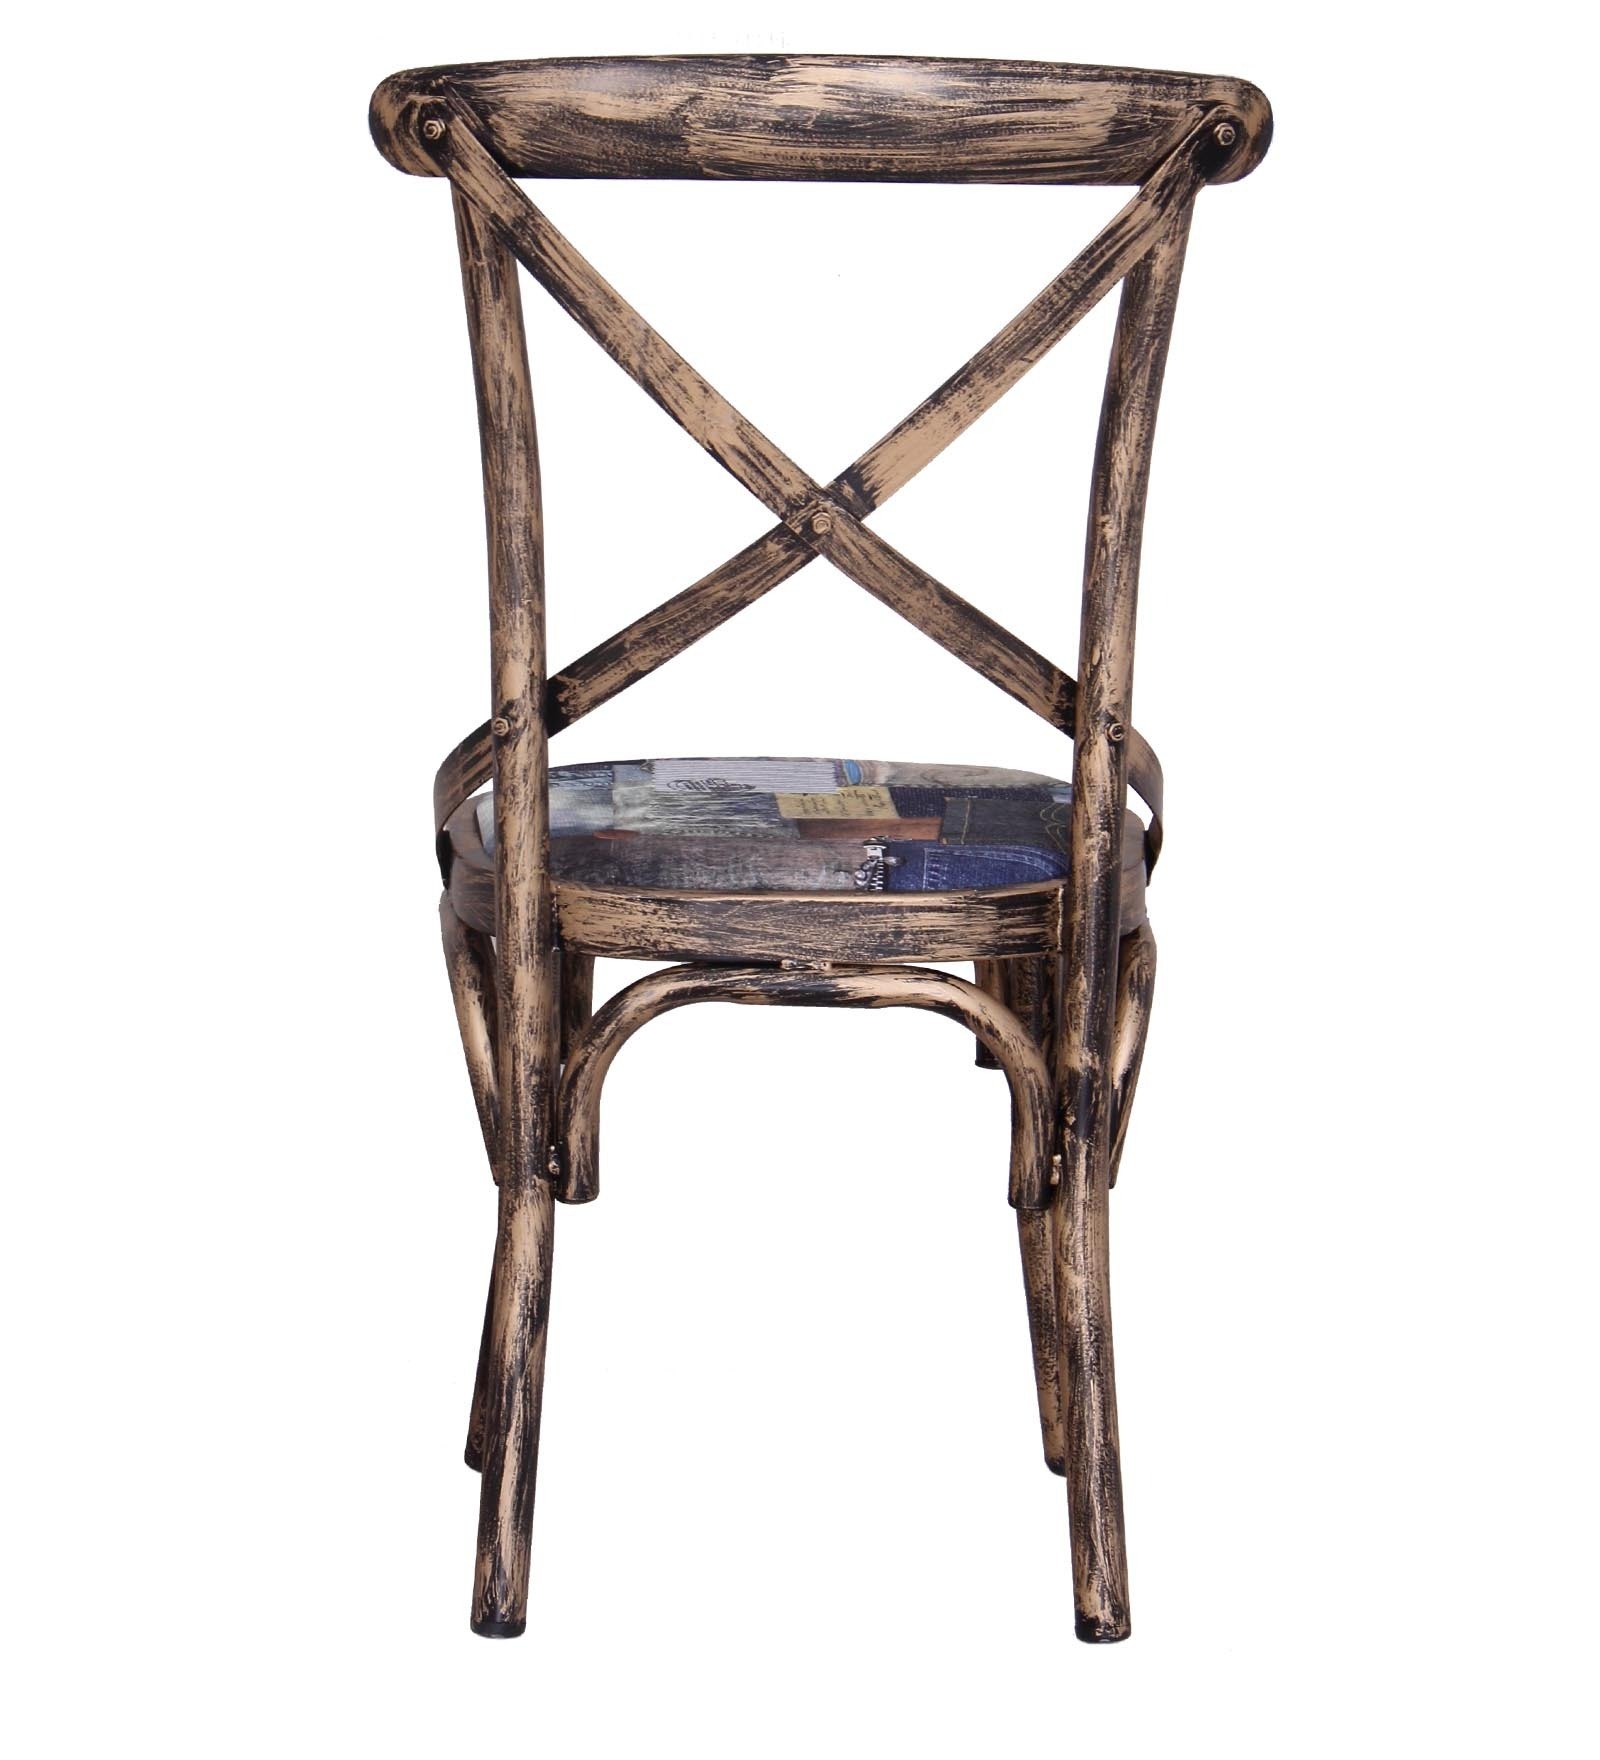Stanrock Metal Chair (Set of 2) in Antique Bronze by Bohemiana: (314, 28, 1330, 1651)
